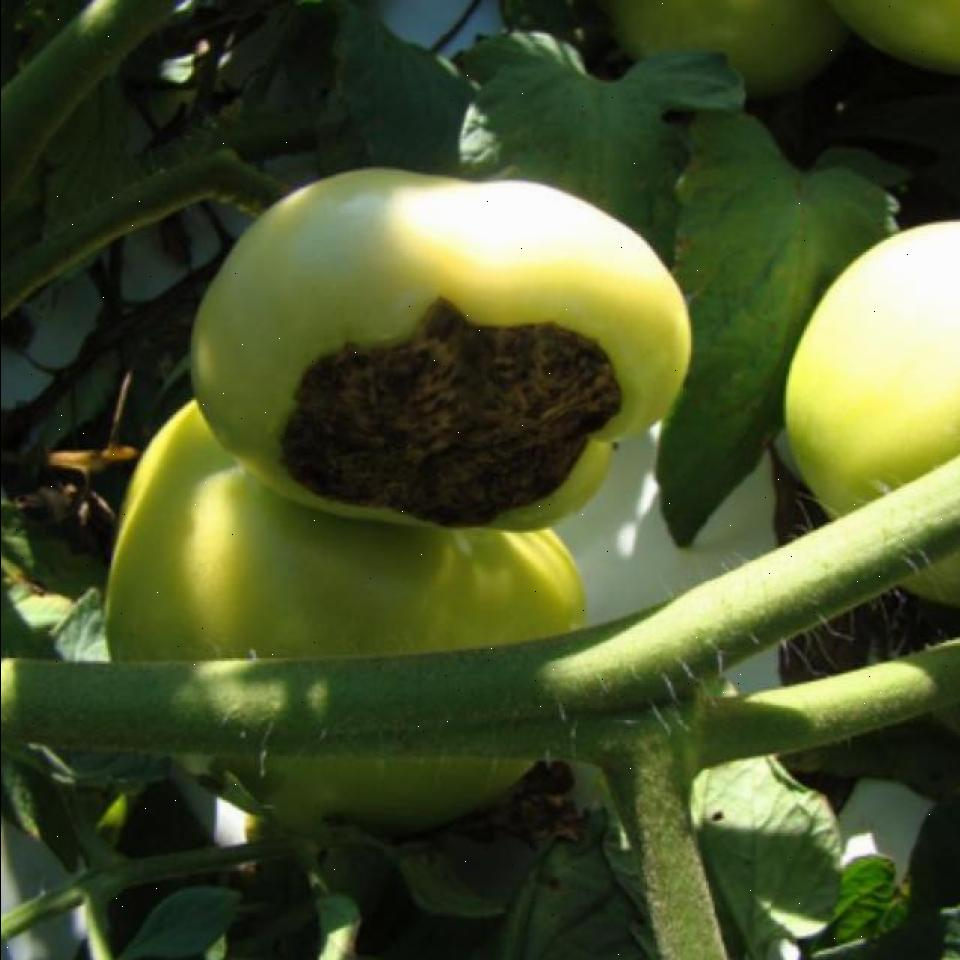Blossom_end_rot: (269, 298, 622, 535)
